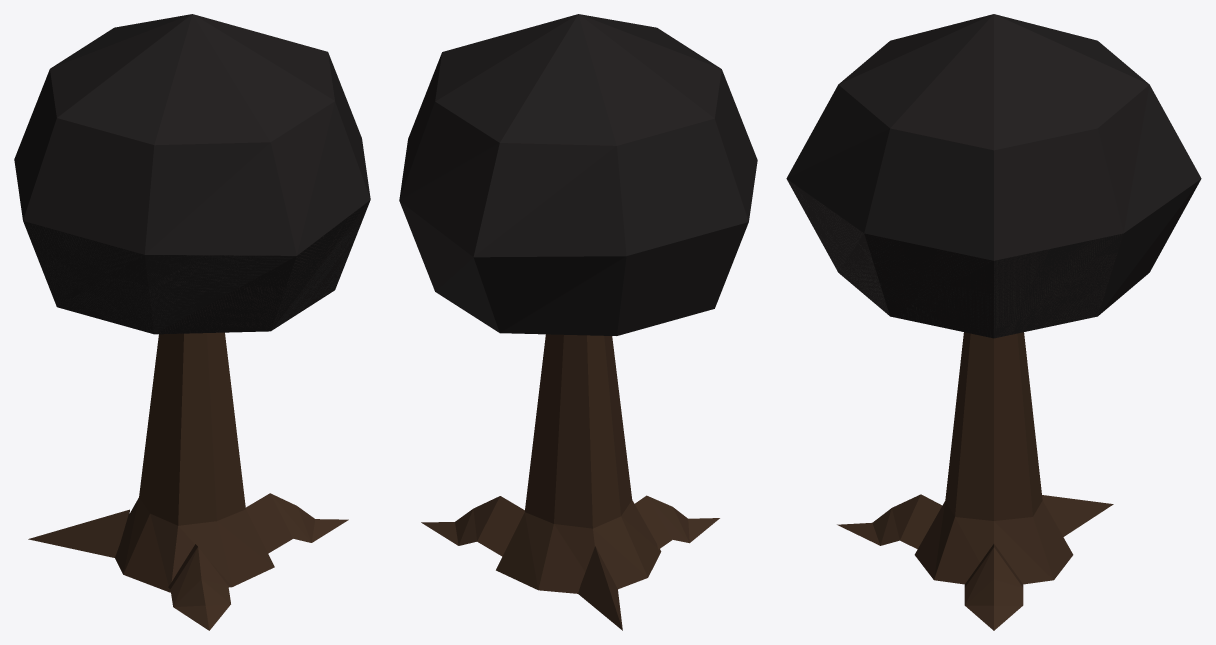
Rendered from obj_magic_tree_0.obj.
3 views of the same model, side by side, from view 1: azimuth 30°, elevation 25°; view 2: azimuth 150°, elevation 25°; view 3: azimuth 270°, elevation 25° (orthographic).
Bounding box in the file's own units: 1.88 × 2.88 × 2.
